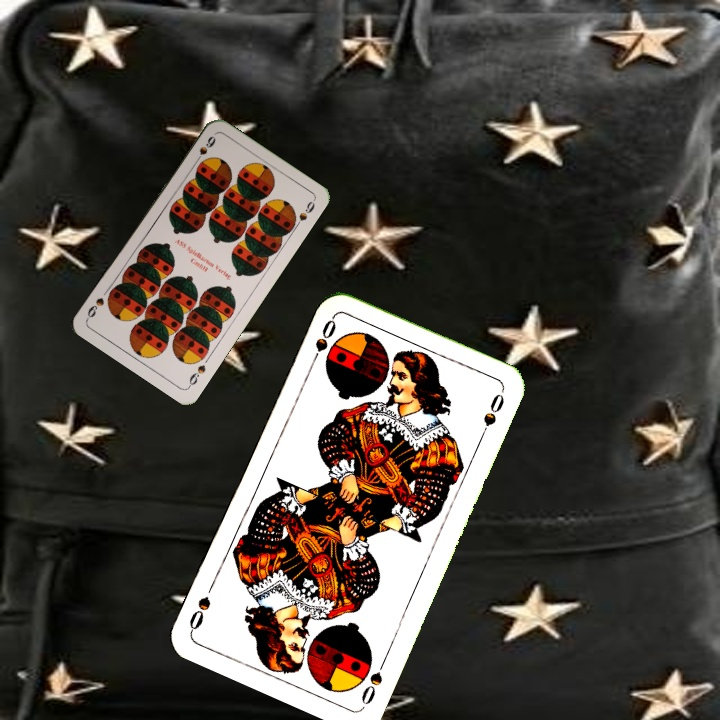S9: (190, 132, 218, 167), (184, 361, 208, 390)
SO: (306, 313, 339, 369), (357, 653, 389, 708)
